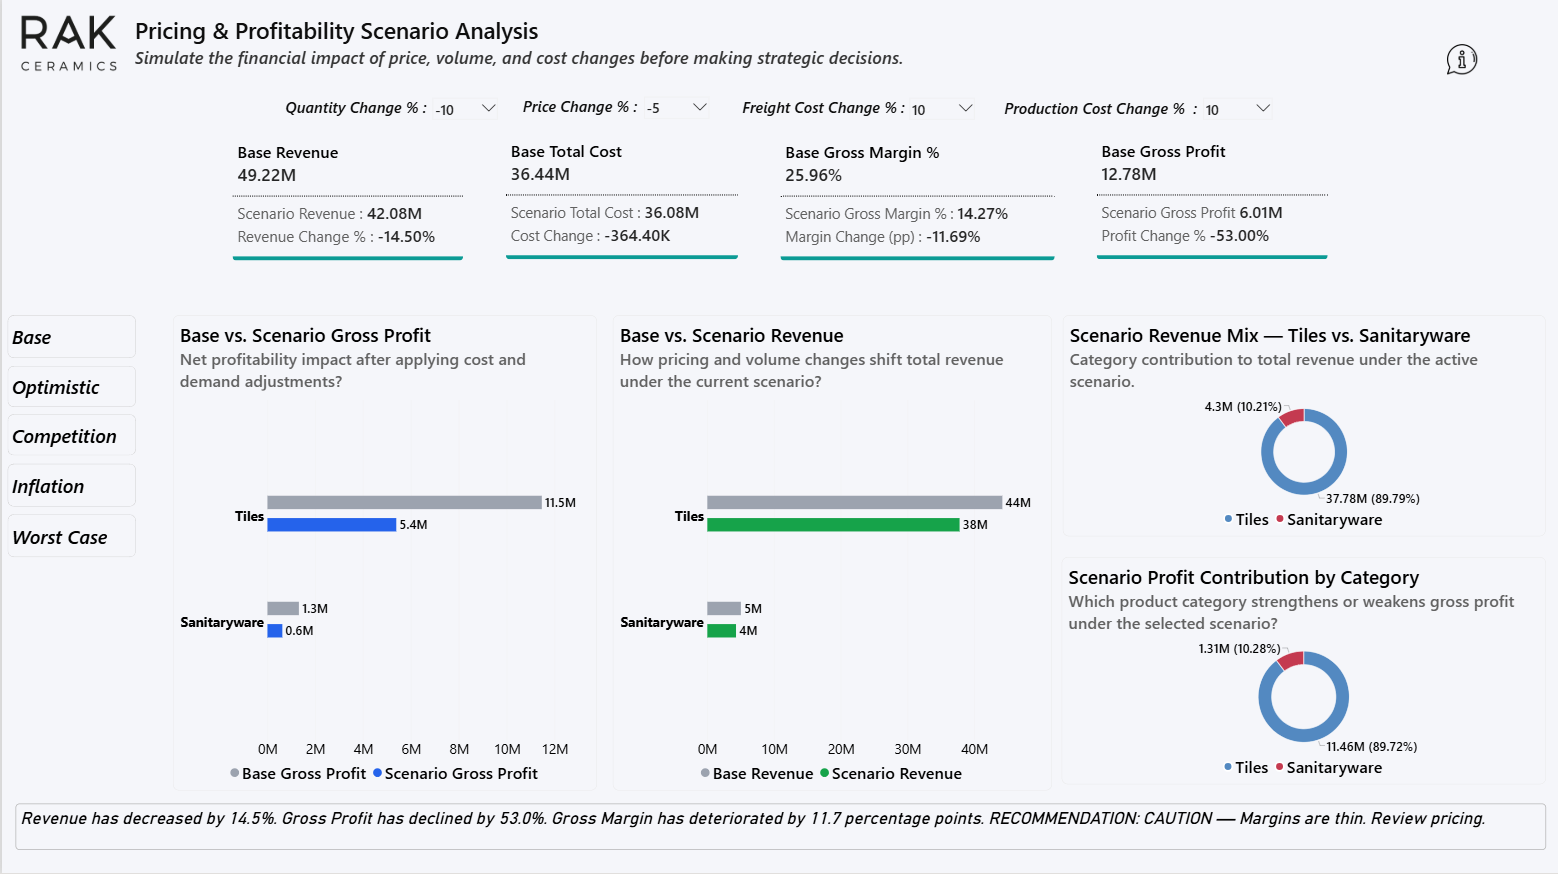

The page's visual inventory and layout, read from the dashboard file:
{"tool":"powerbi","page":{"name":"Scenario Analysis","canvas":[3840,2160],"ordinal":0},"visuals":[{"type":"slicer","fields":{"Values":["Price Change %.Price Change %"]},"box":[1577.8,239.3,169.9,62.4],"z":0,"group":"g2"},{"type":"slicer","fields":{"Values":["Quantity Change %.Quantity Change %"]},"box":[1056.7,240,170,70],"z":0,"group":"g1"},{"type":"slicer","fields":{"Values":["Freight Cost Change %.Freight Cost Change %"]},"box":[2234,240,170,70],"z":0,"group":"g3"},{"type":"slicer","fields":{"Values":["Production Cost Change %.Production Cost Change %"]},"box":[2956.7,240,180,70],"z":0,"group":"g4"},{"type":"clusteredBarChart","title":"Base vs. Scenario Revenue","fields":{"Category":["Product.Category"],"Y":["All_Measures.Revenue","All_Measures.Scenario Revenue"]},"box":[1505.1,782,1082.5,1171.5],"z":0},{"type":"textbox","box":[1273.3,242.4,303.4,65.8],"z":1000,"group":"g2"},{"type":"textbox","box":[686.7,243.3,369.5,70],"z":1000,"group":"g1"},{"type":"textbox","box":[1817.8,243.3,417.7,70],"z":1000,"group":"g3"},{"type":"textbox","box":[2460,246.7,496.7,70],"z":1000,"group":"g4"},{"type":"cardVisual","fields":{"Data":["All_Measures.Revenue"]},"box":[570,320.9,568.3,325],"z":1000},{"type":"multiRowCard","fields":{"Values":["All_Measures.Scenario Insight"]},"box":[33.1,1987,3773.9,114.9],"z":2000},{"type":"clusteredBarChart","title":"Base vs. Scenario Gross Profit","fields":{"Category":["Product.Category"],"Y":["All_Measures.Gross Profit","All_Measures.Scenario Gross Profit"]},"box":[422.6,782,1045.4,1171.5],"z":3000},{"type":"donutChart","title":"Scenario Revenue Mix — Tiles vs. Sanitaryware","fields":{"Category":["Product.Category"],"Y":["All_Measures.Scenario Revenue"]},"box":[2617.3,782.2,1190,545],"z":4000},{"type":"donutChart","title":"Scenario Profit Contribution by Category","fields":{"Category":["Product.Category"],"Y":["All_Measures.Gross Profit by Category"]},"box":[2613.5,1379.1,1193.7,559.8],"z":5000},{"type":"textbox","box":[328.5,40.6,1991.1,141.9],"z":6000},{"type":"actionButton","box":[13.7,781.9,316.3,105.4],"z":10000},{"type":"actionButton","box":[13.7,906.6,316.3,101.4],"z":11000},{"type":"actionButton","box":[13.7,1027.3,316.3,101.4],"z":12000},{"type":"actionButton","box":[13.7,1147.9,316.3,105.4],"z":13000},{"type":"actionButton","box":[13.7,1272.6,316.3,105.4],"z":14000},{"type":"image","box":[4.1,4.1,308.2,214.9],"z":16000},{"type":"image","box":[3548.3,113.5,105.4,75],"z":17000},{"type":"cardVisual","fields":{"Data":["All_Measures.Total Cost"]},"box":[1241.9,320,572.1,325],"z":18000},{"type":"cardVisual","fields":{"Data":["All_Measures.Gross Margin %"]},"box":[1919,320.9,676.5,325],"z":19000},{"type":"cardVisual","fields":{"Data":["All_Measures.Gross Profit"]},"box":[2700.4,320,570.9,325],"z":20000},{"type":"group","id":"g1","title":"Group 3","box":[686.7,240,540,73.3],"z":20500},{"type":"group","id":"g2","title":"Group 4","box":[1273.3,239.3,474.5,68.9],"z":21000},{"type":"group","id":"g3","title":"Group 2","box":[1817.8,240,586.2,73.3],"z":21500},{"type":"group","id":"g4","title":"Group 5","box":[2460,240,676.7,76.7],"z":22000}]}

Visuals, with their boxes in screenshot pixels (x1, y1, x2, y2), scaled from the page's 3840x2160 canvas onto the 1558x874 screenshot:
slicer - Price Change %.Price Change %: [640,97,709,122]
slicer - Quantity Change %.Quantity Change %: [429,97,498,125]
slicer - Freight Cost Change %.Freight Cost Change %: [906,97,975,125]
slicer - Production Cost Change %.Production Cost Change %: [1200,97,1273,125]
"Base vs. Scenario Revenue" clusteredBarChart: [611,316,1050,790]
textbox: [517,98,640,125]
textbox: [279,98,429,127]
textbox: [738,98,907,127]
textbox: [998,100,1200,128]
cardVisual - All_Measures.Revenue: [231,130,462,261]
multiRowCard - All_Measures.Scenario Insight: [13,804,1545,850]
"Base vs. Scenario Gross Profit" clusteredBarChart: [171,316,596,790]
"Scenario Revenue Mix — Tiles vs. Sanitaryware" donutChart: [1062,317,1545,537]
"Scenario Profit Contribution by Category" donutChart: [1060,558,1545,785]
textbox: [133,16,941,74]
actionButton: [6,316,134,359]
actionButton: [6,367,134,408]
actionButton: [6,416,134,457]
actionButton: [6,464,134,507]
actionButton: [6,515,134,558]
image: [2,2,127,89]
image: [1440,46,1482,76]
cardVisual - All_Measures.Total Cost: [504,129,736,261]
cardVisual - All_Measures.Gross Margin %: [779,130,1053,261]
cardVisual - All_Measures.Gross Profit: [1096,129,1327,261]
"Group 3" group: [279,97,498,127]
"Group 4" group: [517,97,709,125]
"Group 2" group: [738,97,975,127]
"Group 5" group: [998,97,1273,128]
